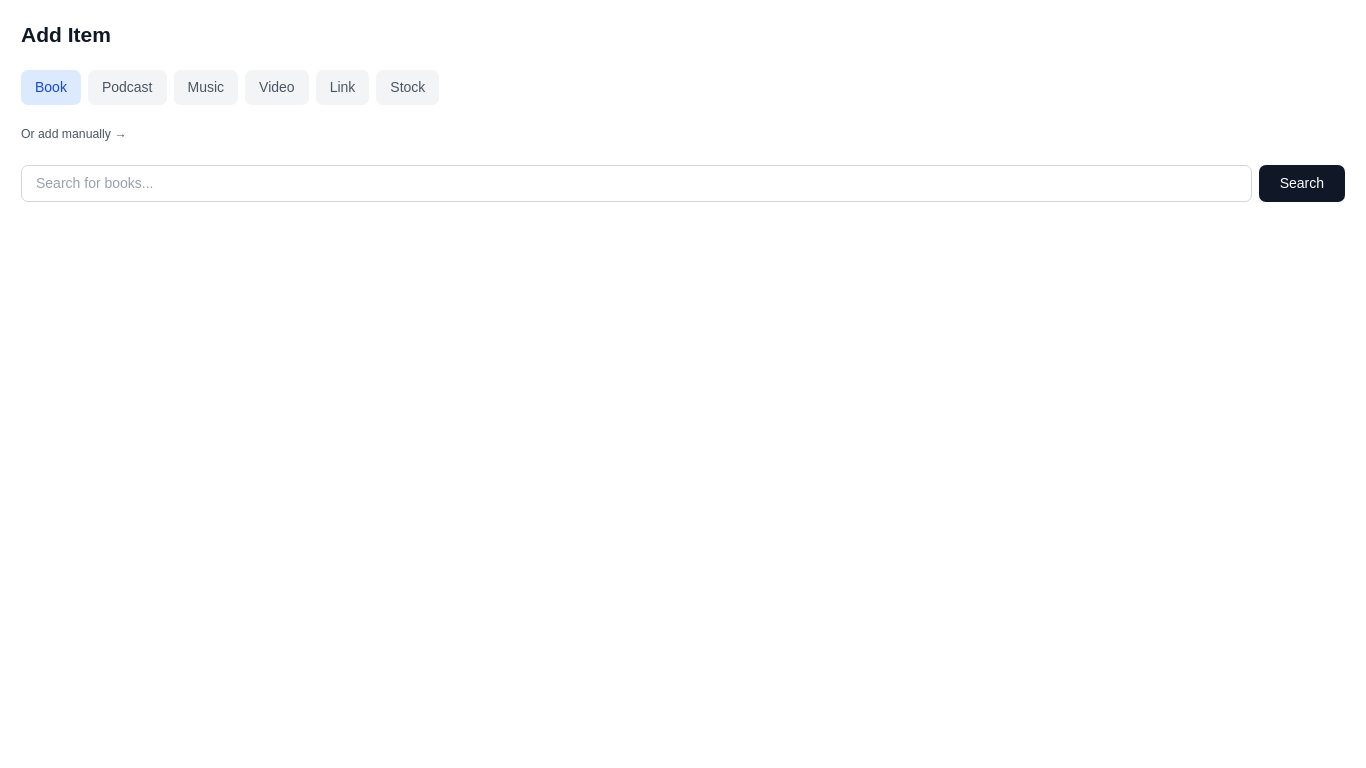
Test: AddItemForm › Manual Mode › switches to manual mode
The image size is (1366, 768).
Click the button "Or add manually →" at (74, 135), box [21,126,126,144]
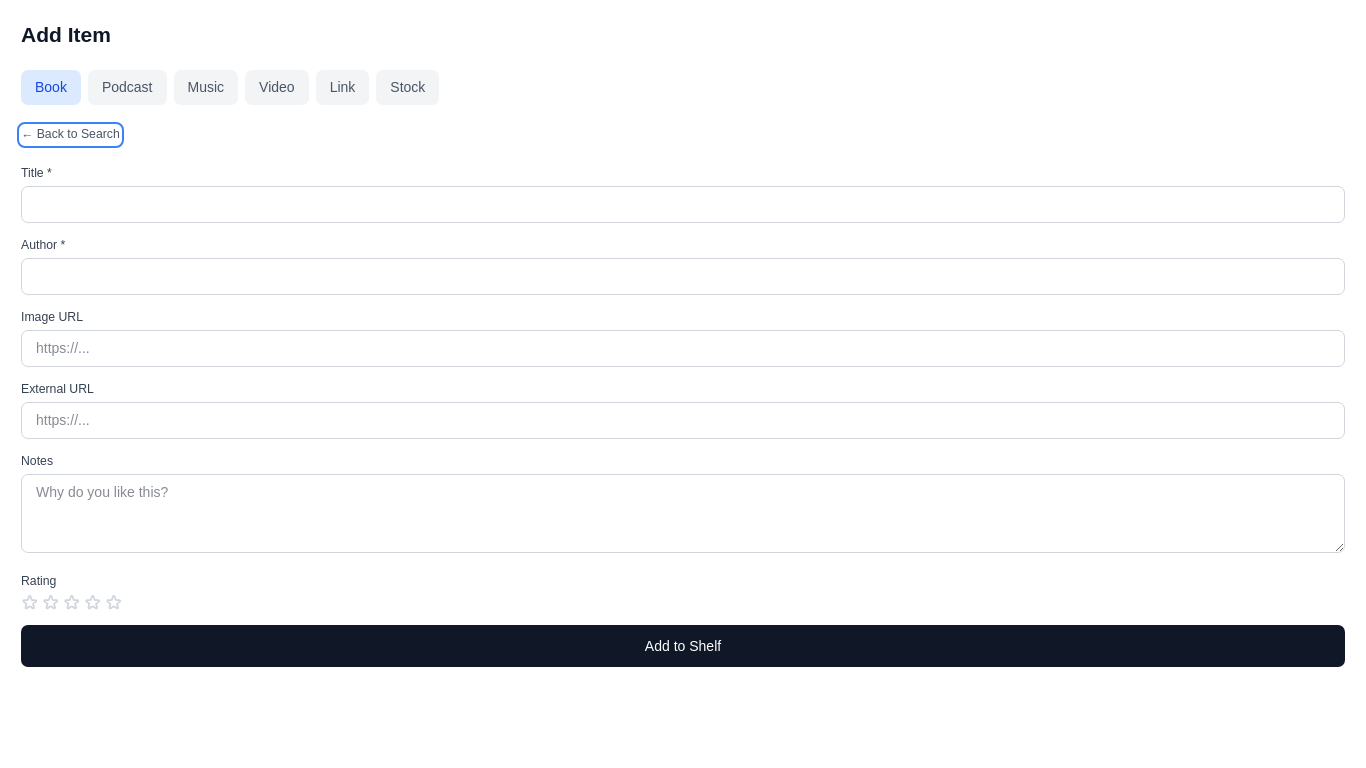
Check: the text "Title *" is shown, box [21,166,52,180]
